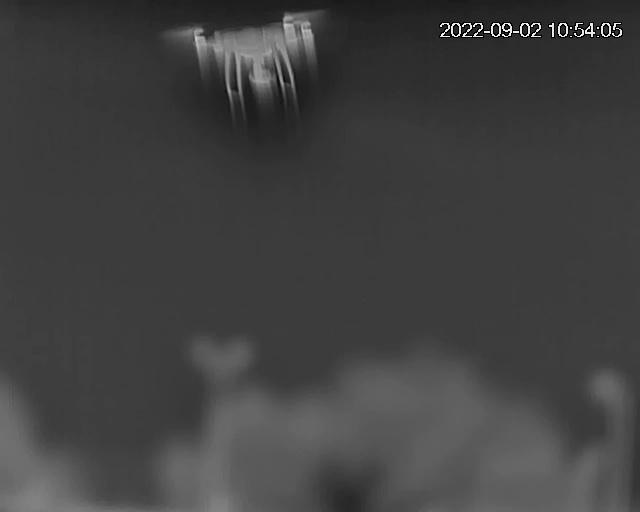DJI-Phantom: (169, 8, 329, 114)
